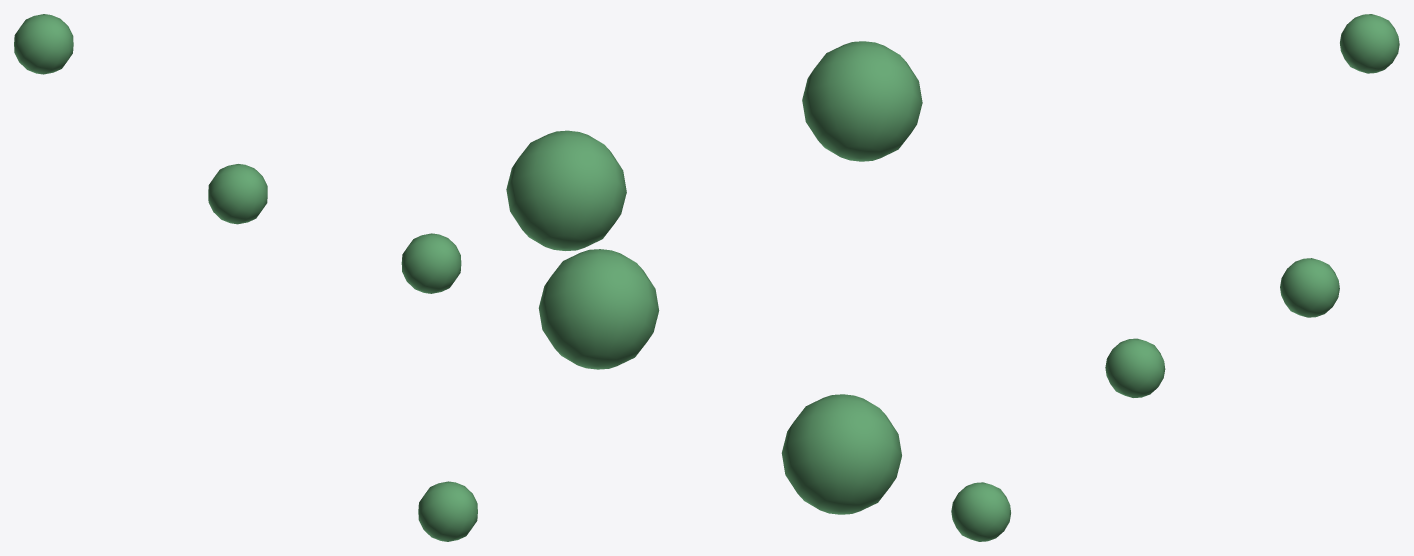
3 renders of one model, left to right at view 1: azimuth 30°, elevation 25°; view 2: azimuth 150°, elevation 25°; view 3: azimuth 270°, elevation 25°, orthographic. The views are drawn at different scales.
Visible parts, largest first — view 1: 右侧臀上淋巴结; view 2: 右侧臀上淋巴结; view 3: 右侧臀上淋巴结.
Part boxes in pixels (box(x1,y1,x2,y2)): 右侧臀上淋巴结: box(14, 14, 477, 541); 右侧臀上淋巴结: box(506, 41, 922, 514); 右侧臀上淋巴结: box(951, 14, 1399, 541).
Bounding box in the file's own units: 0.0232 × 0.0296 × 0.0285.
